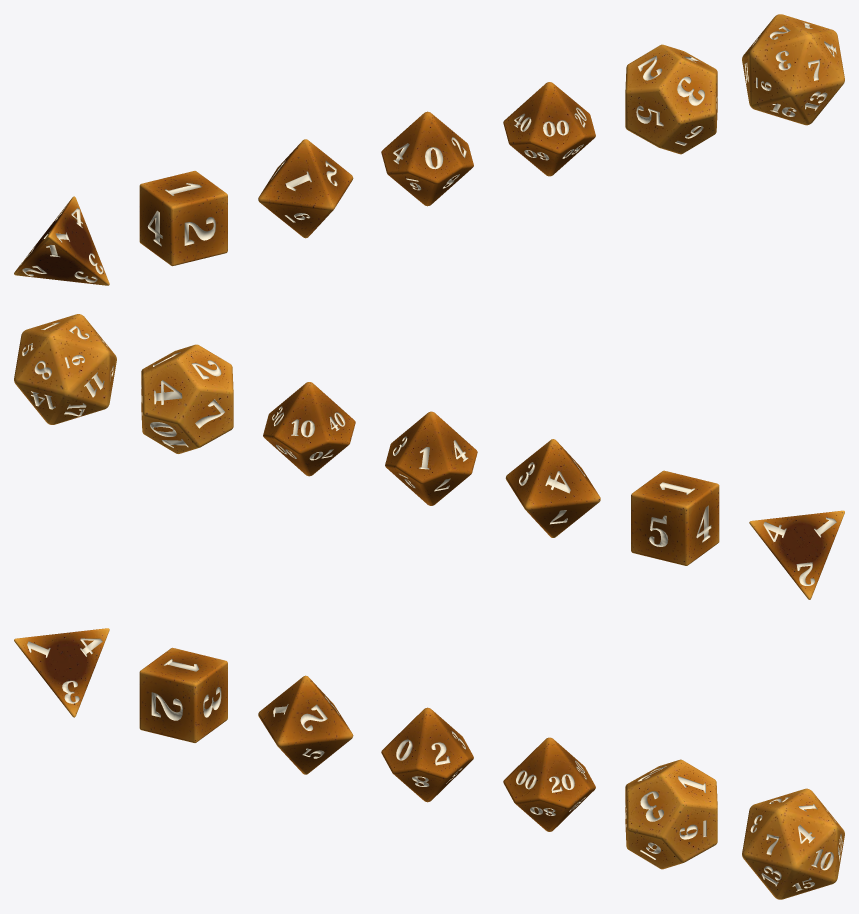
The model's file is amber.glb.
3 renders of one model, top to bottom at view 1: azimuth 30°, elevation 25°; view 2: azimuth 150°, elevation 25°; view 3: azimuth 330°, elevation 25°, orthographic.
Parts seen in each view (by area): view 1: d20, d12, d6, d100, d10, d8, d4; view 2: d20, d12, d6, d100, d10, d8, d4; view 3: d20, d12, d6, d8, d10, d100, d4.
Part boxes in pixels (x1,y1,x2,y2): d20: (742,14,844,125); d12: (625,44,717,154); d6: (139,171,227,266); d100: (503,82,595,176); d10: (381,111,473,206); d8: (258,139,353,238); d4: (14,196,109,285); d20: (14,314,116,424); d12: (141,344,233,453); d6: (631,470,719,565); d100: (263,382,355,476); d10: (385,411,477,505); d8: (505,439,600,537); d4: (749,510,844,599); d20: (742,788,844,899); d12: (625,759,717,869); d6: (139,647,227,742); d8: (258,675,353,774); d10: (381,707,473,802); d100: (503,737,595,831); d4: (14,628,109,717).
Size of the model in its own units: 21.14 by 2.47 by 2.47.
14 materials, 7 textured.
